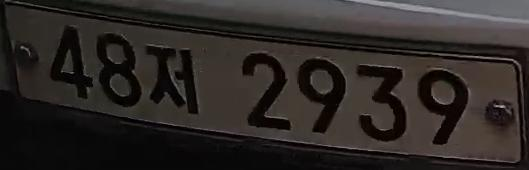2: (239, 51, 294, 131)
3: (354, 63, 415, 144)
4: (45, 24, 95, 99)
8: (95, 23, 144, 110)
9: (413, 69, 475, 148), (294, 55, 352, 137)
저: (142, 42, 208, 116)
